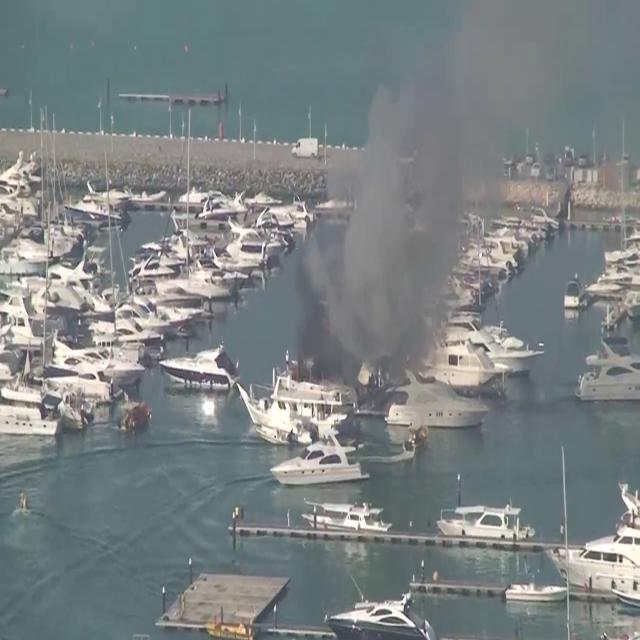Smoke: (285, 0, 637, 378)
